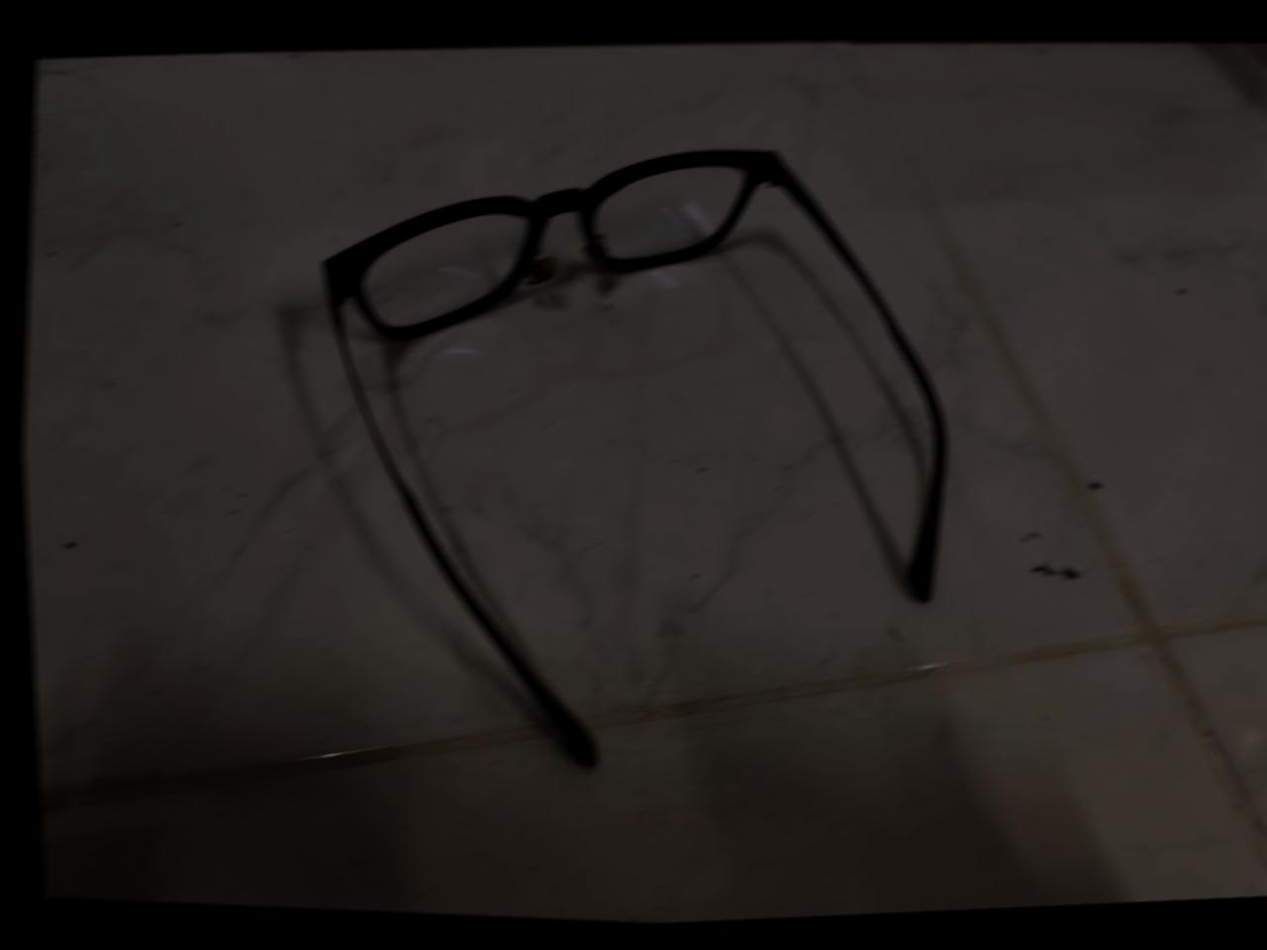glasses: (256, 87, 1012, 819)
